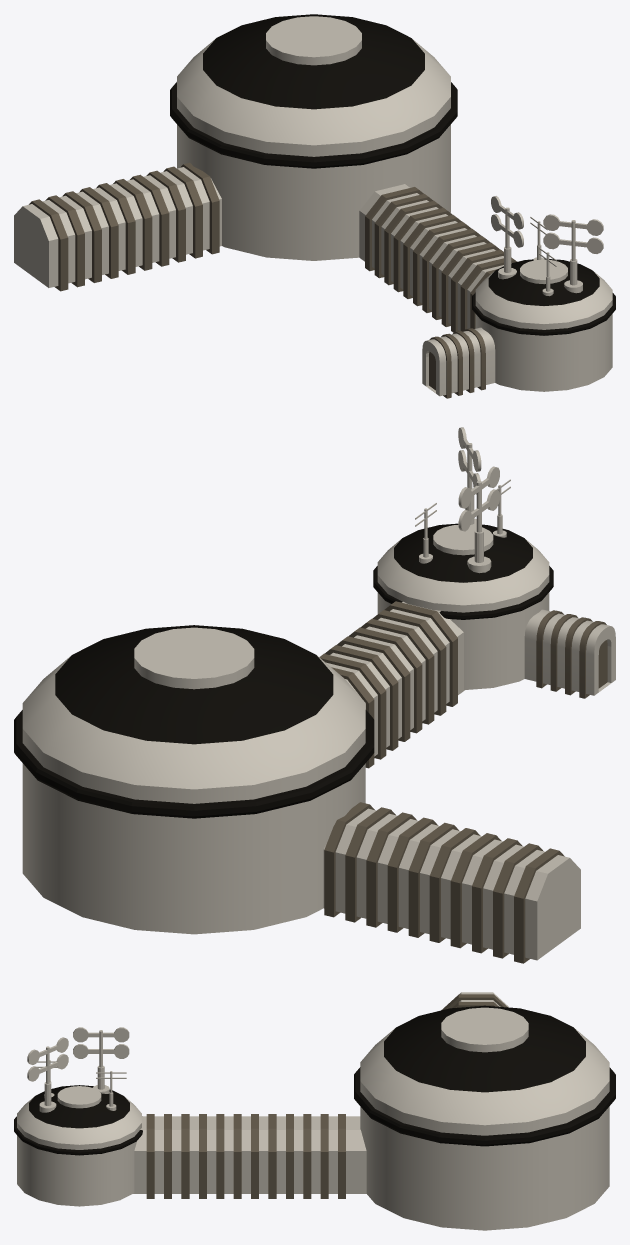
The model's file is 09 Space_house.FBX.glb.
3 renders of one model, top to bottom at view 1: azimuth 30°, elevation 25°; view 2: azimuth 150°, elevation 25°; view 3: azimuth 270°, elevation 25°, orthographic. The views are drawn at different scales.
Visible parts, largest first — view 1: Box037.2; view 2: Box037.2; view 3: Box037.2.
Part boxes in pixels (bbox=[...]): Box037.2: bbox=[14, 14, 615, 398]; Box037.2: bbox=[14, 427, 615, 963]; Box037.2: bbox=[14, 992, 615, 1230].
Size of the model in its own units: 5494 by 2153 by 7605.
